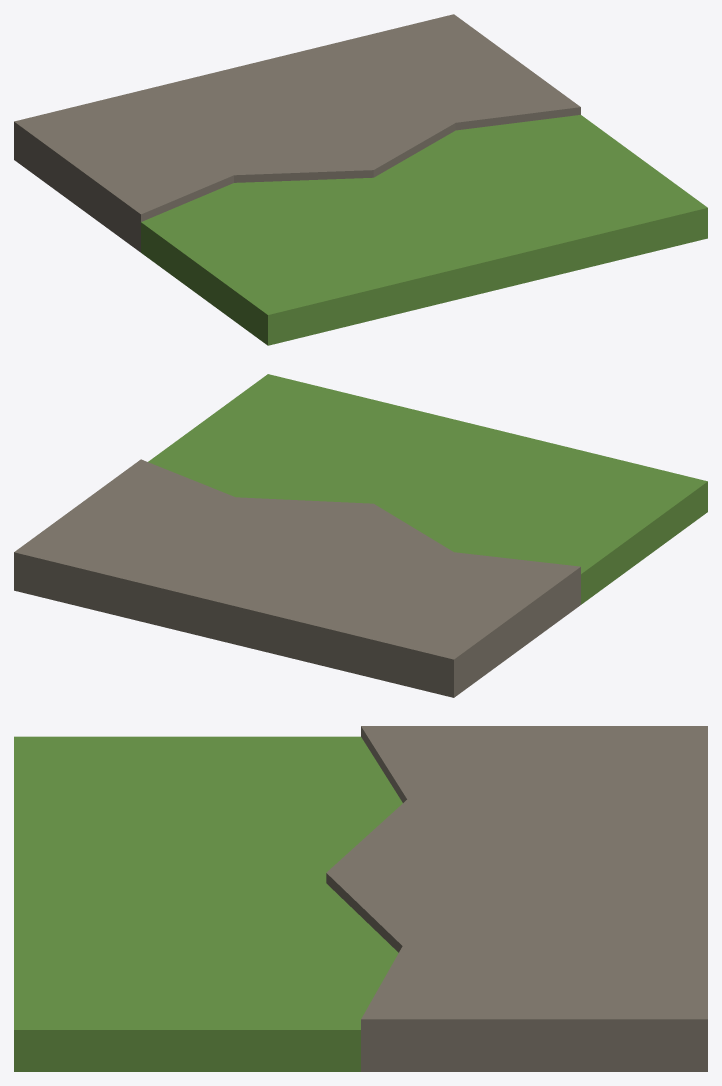
File: Teren_Przejscie.fbx
3 renders of one model, top to bottom at view 1: azimuth 30°, elevation 25°; view 2: azimuth 150°, elevation 25°; view 3: azimuth 270°, elevation 25°, orthographic. The views are drawn at different scales.
Parts seen in each view (by area): view 1: Teren_Przejscie; view 2: Teren_Przejscie; view 3: Teren_Przejscie.
Boxes of the visible parts, x1,y1,x2,y2 form: Teren_Przejscie: (14,14,707,345); Teren_Przejscie: (14,374,707,697); Teren_Przejscie: (14,726,707,1071).
Size of the model in its own units: 3 by 0.25 by 3.
